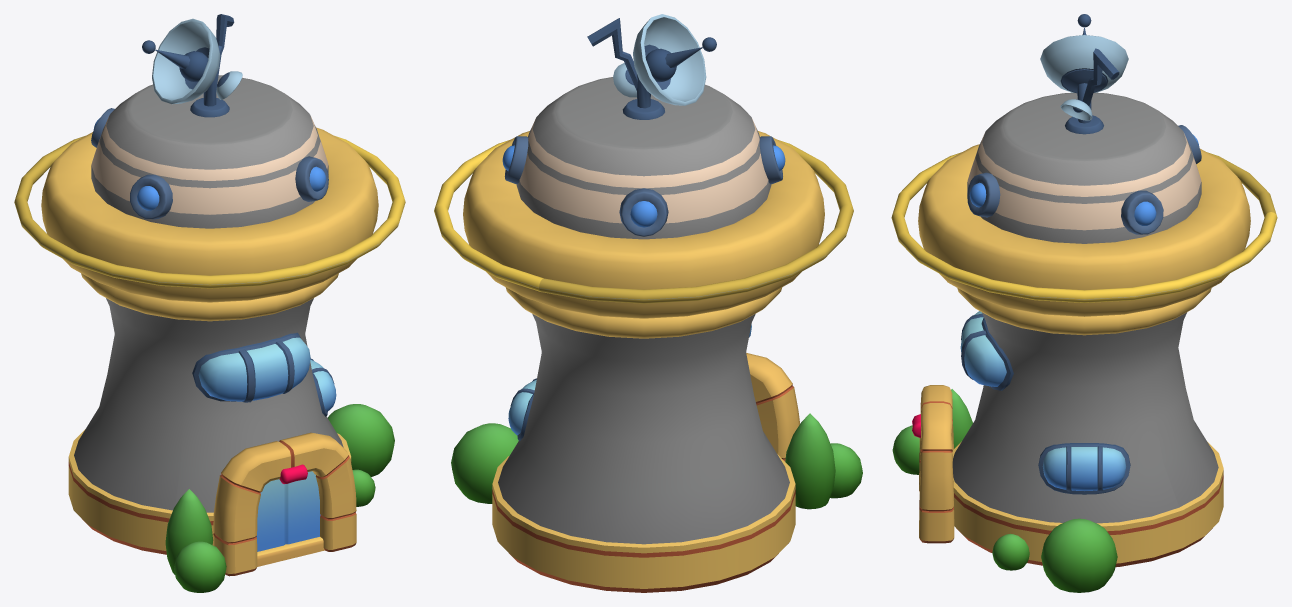
The model's file is Map01_Building01_01.FBX.
The picture shows the model from 3 angles, left to right: view 1: azimuth 30°, elevation 25°; view 2: azimuth 150°, elevation 25°; view 3: azimuth 270°, elevation 25°; orthographic projection. The views are drawn at different scales.
Visible parts, largest first — view 1: Map01_Building01_01; view 2: Map01_Building01_01; view 3: Map01_Building01_01.
Boxes of the visible parts, <box> form: Map01_Building01_01: <box>14,14,405,592</box>; Map01_Building01_01: <box>434,14,862,592</box>; Map01_Building01_01: <box>891,14,1277,592</box>.
Bounding box in the file's own units: 1281 × 1695 × 1251.
Materials: 1 (1 with a texture image).
